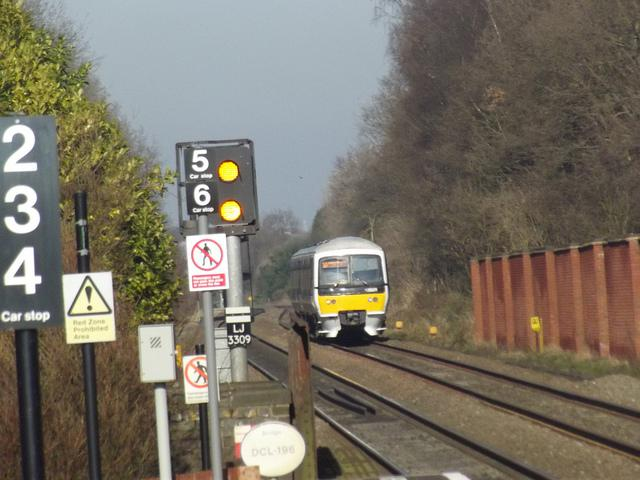Train: (289, 237, 388, 341)
